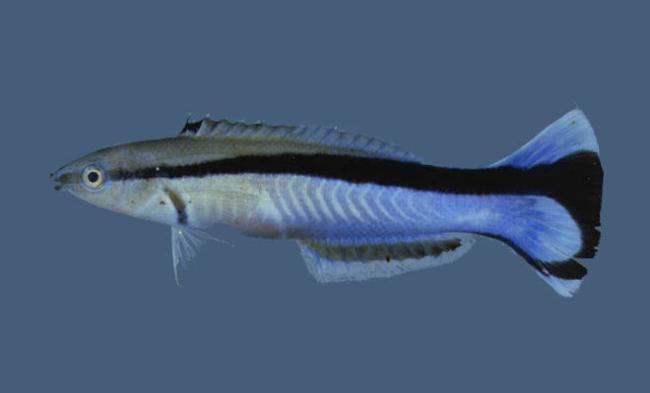fish: (49, 104, 606, 299)
